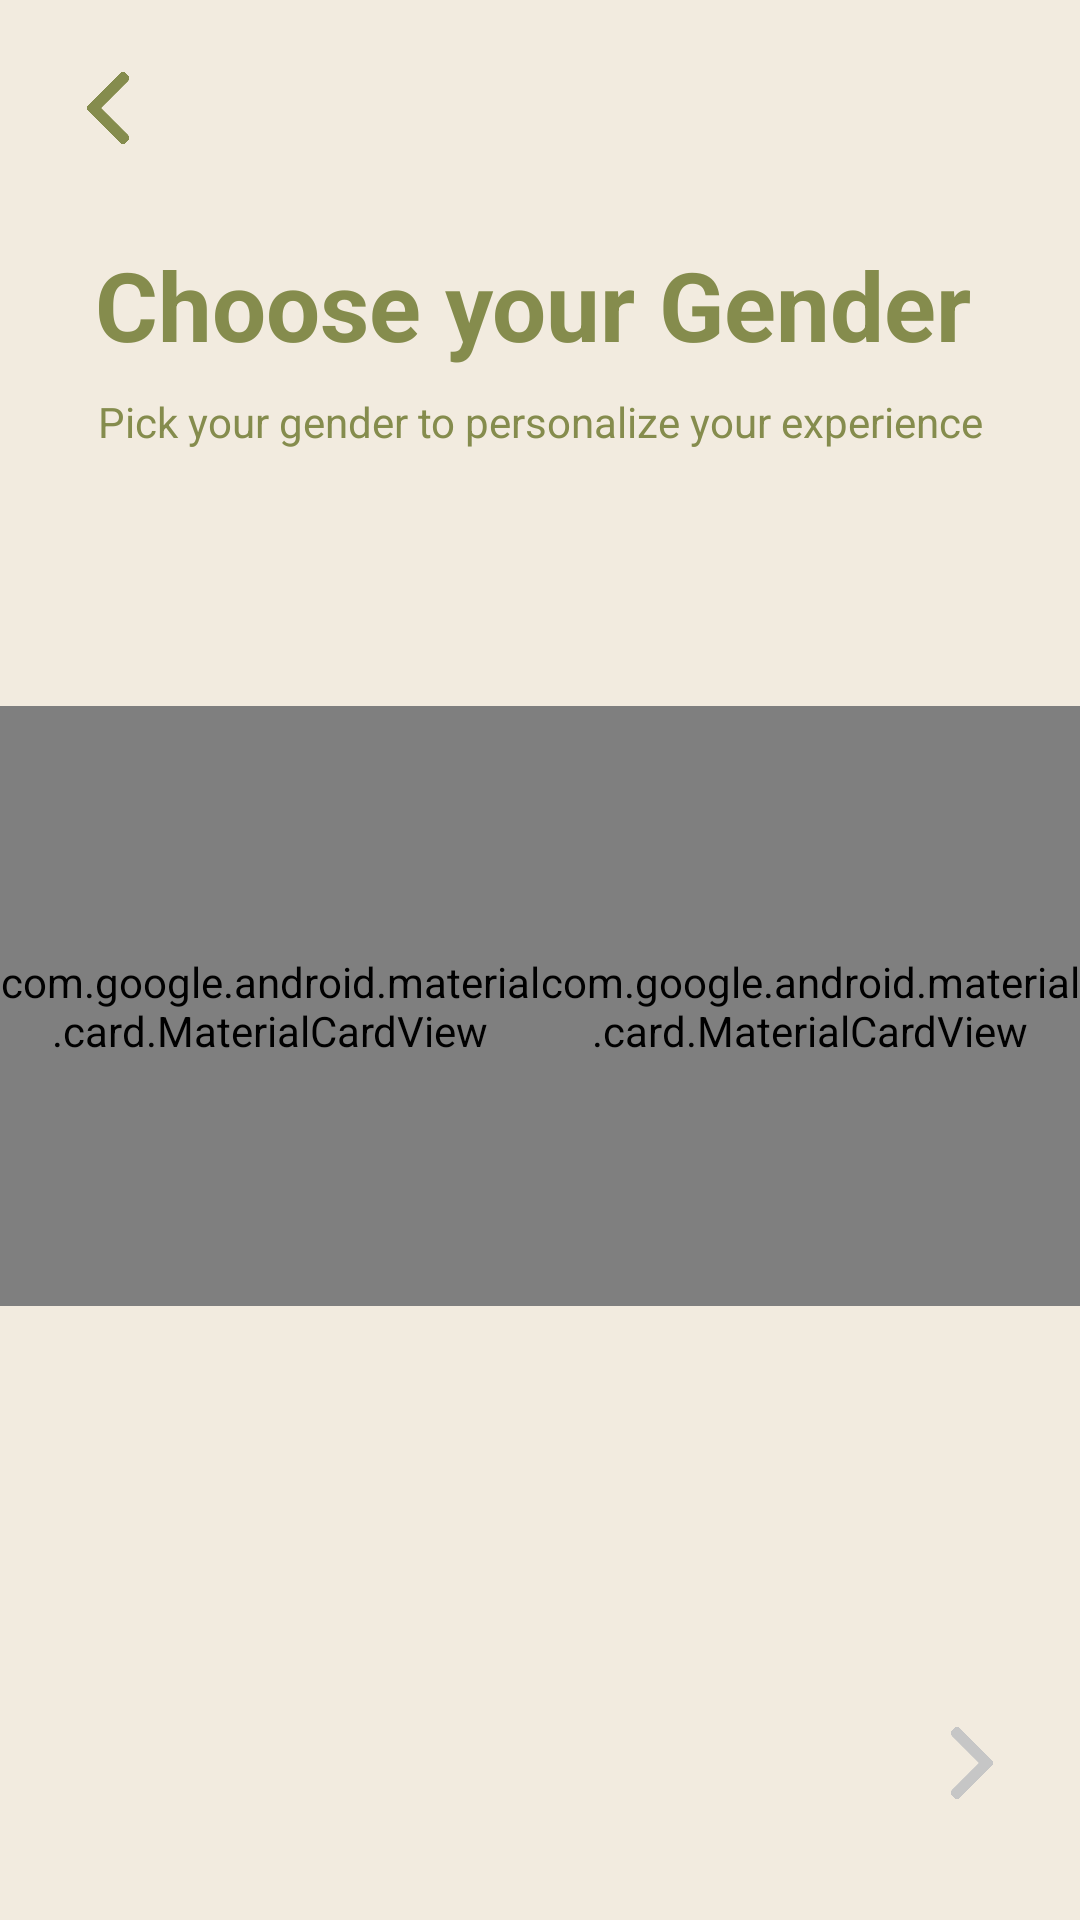

Screen size 1080px×1920px. Icon name, then its box in pixels as [x1=x1, y1=y1, x2=x2, y2=y2]:
back arrow: [x1=87, y1=72, x2=129, y2=144]
next arrow unclicked: [x1=951, y1=1727, x2=993, y2=1799]
